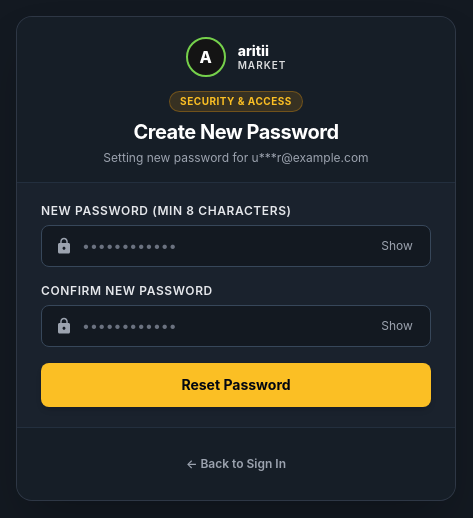
Test case: ResetPasswordPage › displays form when token is valid and updates password on submit
This screenshot has width=473, height=518.
Expected: the text "Setting new password for u***r@example.com" is shown, [103, 150, 369, 164]
Type "NewPassword123!" into the password field labelled "New Password (min 8 characters)" at (236, 246), box [41, 224, 431, 266]
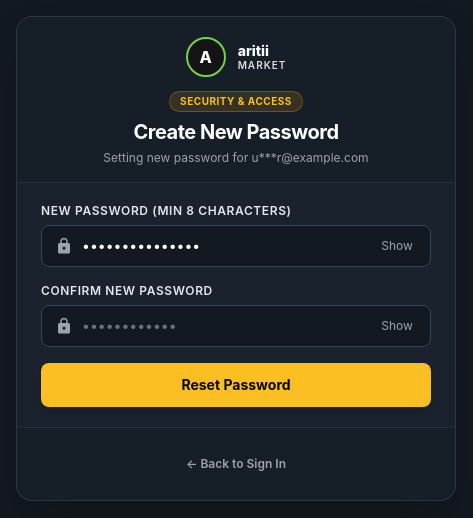
Type "NewPassword123!" into the password field labelled "Confirm New Password" at (236, 326), box [41, 304, 431, 346]
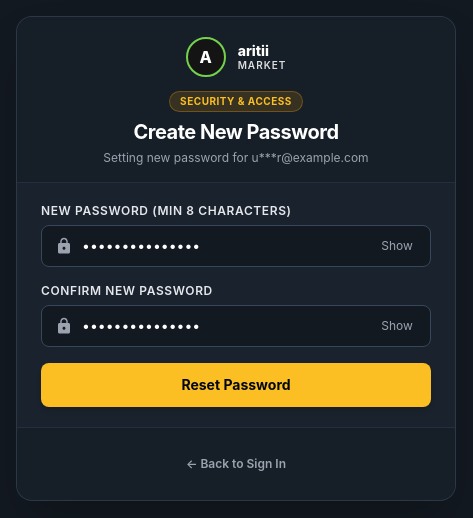
Click the button "Reset Password" at (236, 384), box [41, 362, 431, 406]
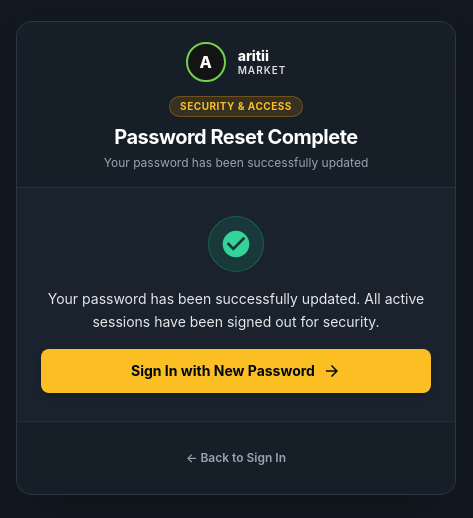
Expected: the heading "Password Reset Complete" is shown, [114, 125, 358, 149]
Expected: the button "Sign In with New Password" is shown, [41, 349, 431, 393]
